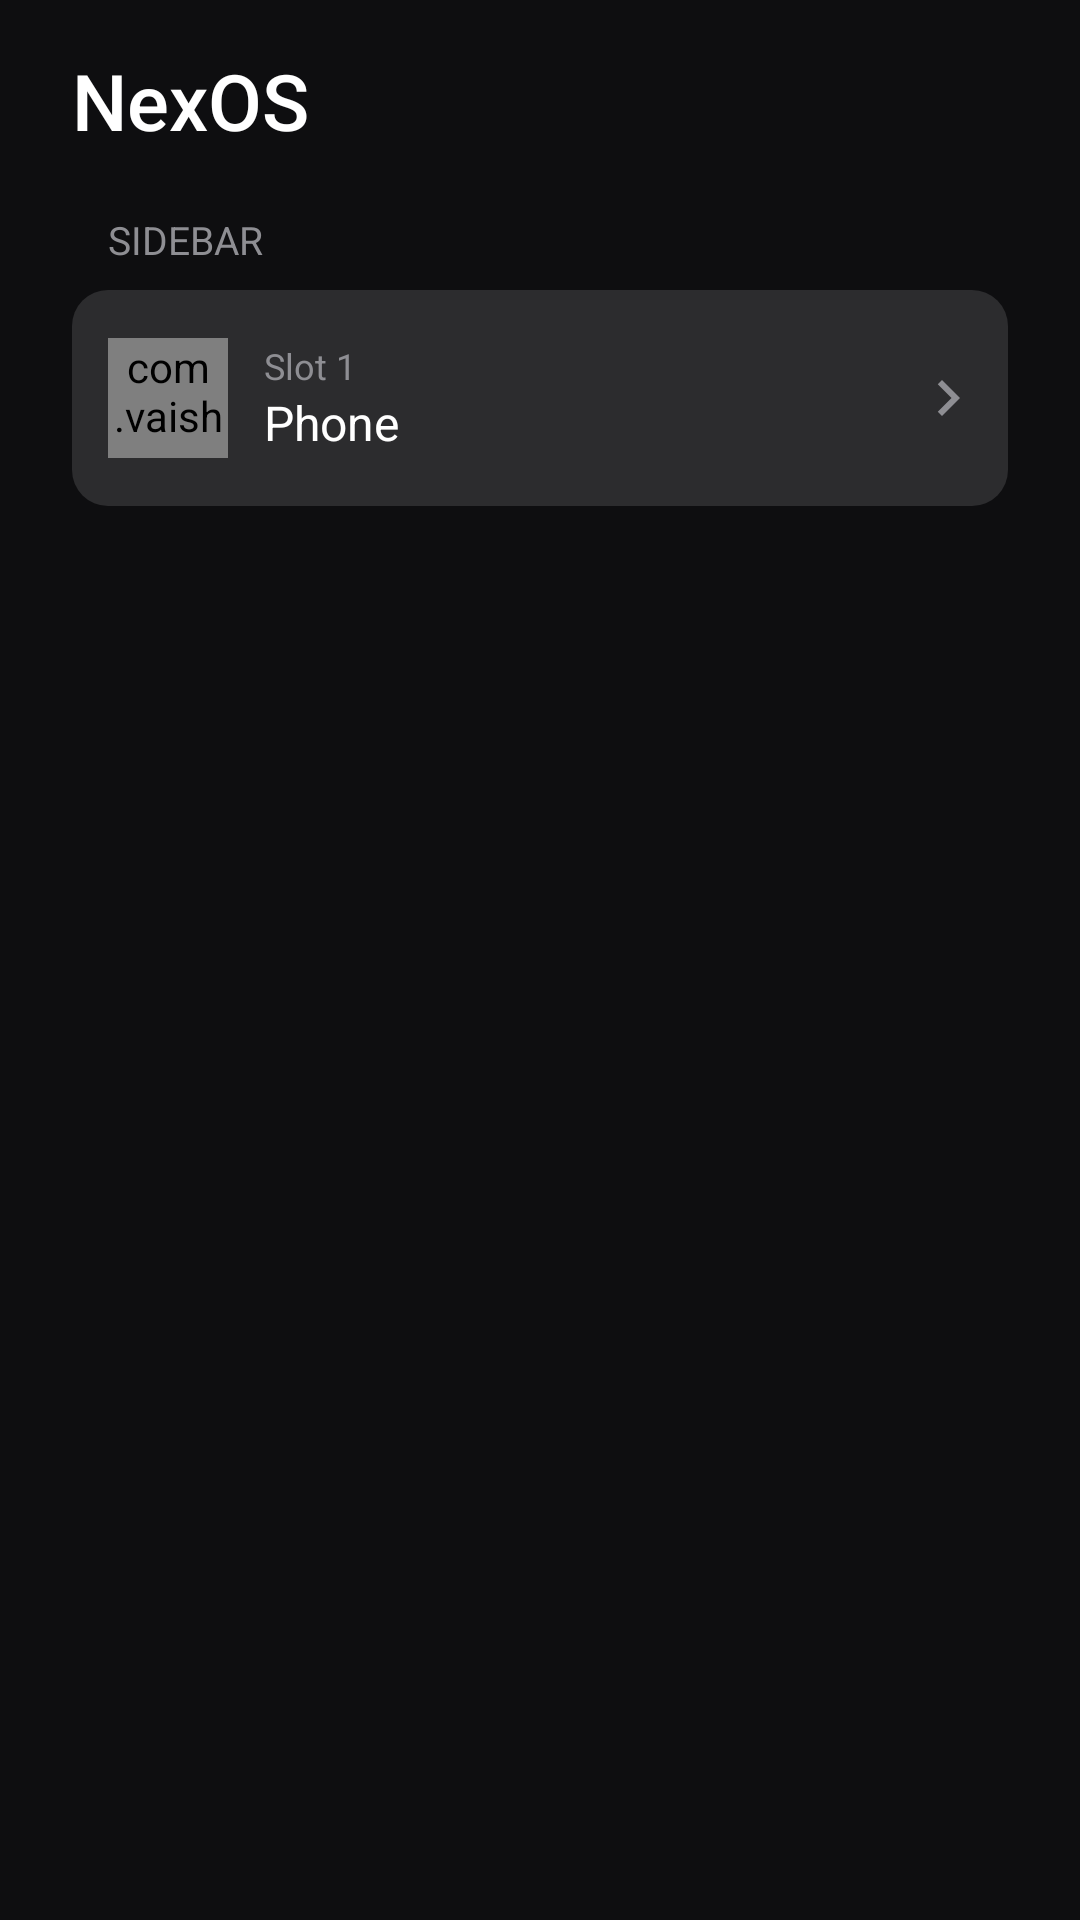

Where icons sit on this 1080w x 1920h app screen, as (x1, y1, x2, y2):
chevron: (938, 380, 960, 416)
